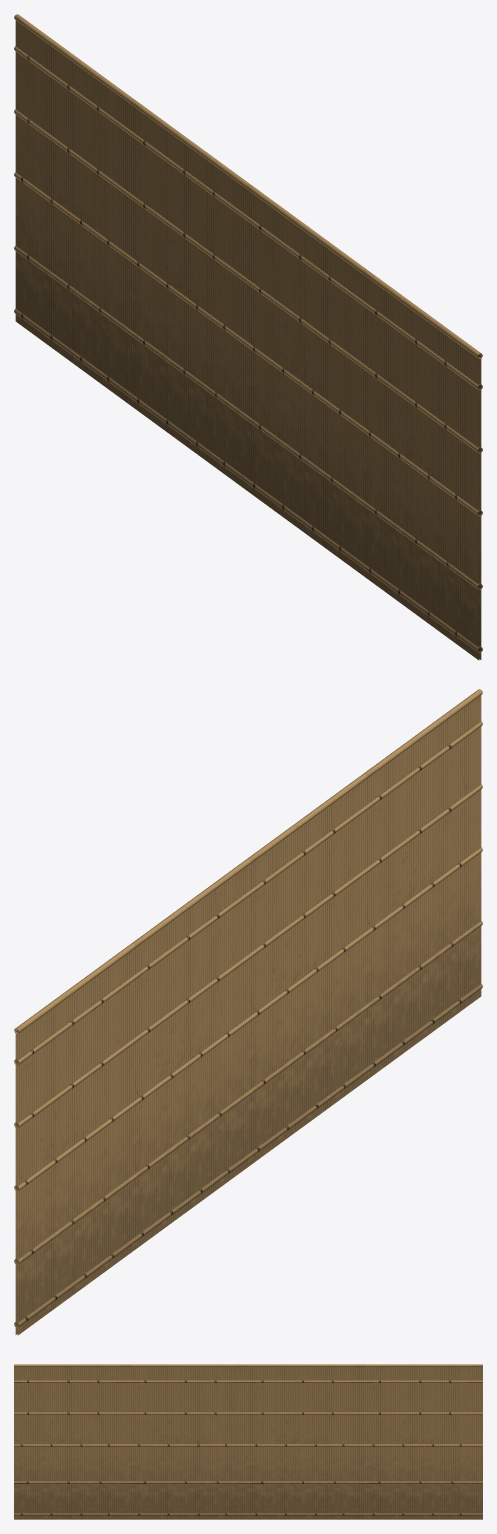
The model's file is Onsen_Fence_Bamboo_01_8x3.fbx.
3 views of the same model, one above another, from view 1: azimuth 30°, elevation 25°; view 2: azimuth 150°, elevation 25°; view 3: azimuth 270°, elevation 25° (orthographic). The views are drawn at different scales.
Parts seen in each view (by area): view 1: Onsen_Fence_Bamboo_01_8x3; view 2: Onsen_Fence_Bamboo_01_8x3; view 3: Onsen_Fence_Bamboo_01_8x3.
Boxes of the visible parts, left/top/right/bottom form: Onsen_Fence_Bamboo_01_8x3: left=14, top=14, right=482, bottom=660; Onsen_Fence_Bamboo_01_8x3: left=14, top=689, right=482, bottom=1335; Onsen_Fence_Bamboo_01_8x3: left=14, top=1364, right=482, bottom=1519.
Size of the model in its own units: 0.0545 by 2.92 by 8.
